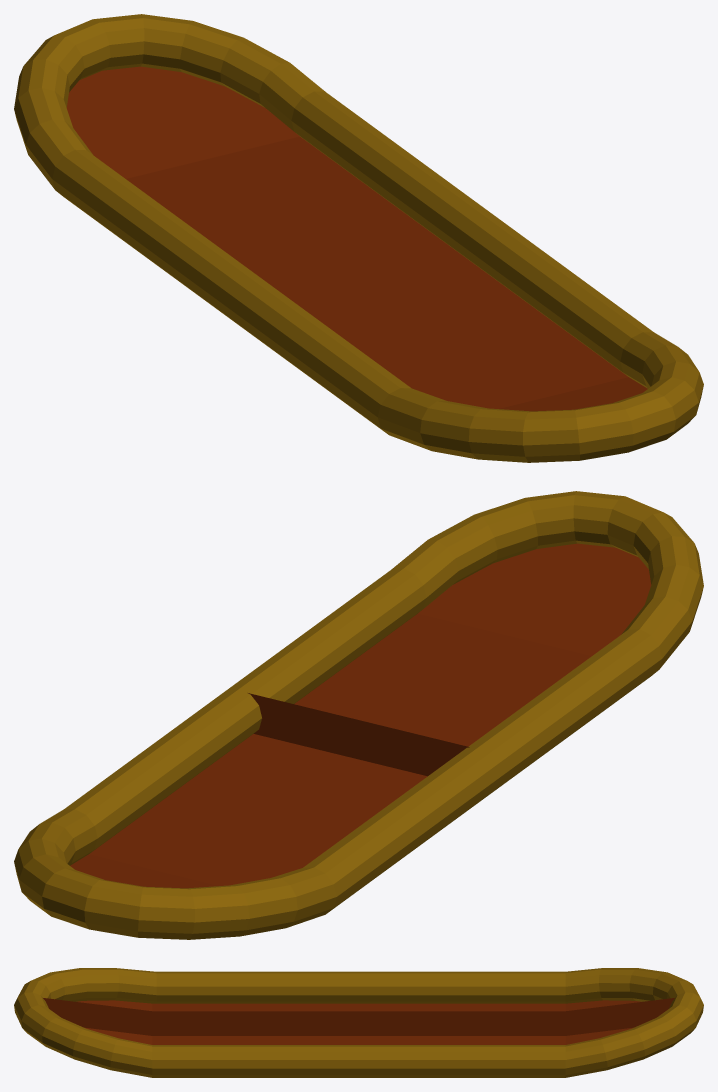
Rendered from hover_board.glb.
3 renders of one model, top to bottom at view 1: azimuth 30°, elevation 25°; view 2: azimuth 150°, elevation 25°; view 3: azimuth 270°, elevation 25°, orthographic. The views are drawn at different scales.
Visible parts, largest first — view 1: Base; view 2: Base; view 3: Base.
Boxes of the visible parts, left/top/right/bottom form: Base: left=14, top=14, right=703, bottom=462; Base: left=14, top=491, right=703, bottom=939; Base: left=14, top=968, right=703, bottom=1077.
Size of the model in its own units: 0.5002 by 0.1556 by 1.67.
